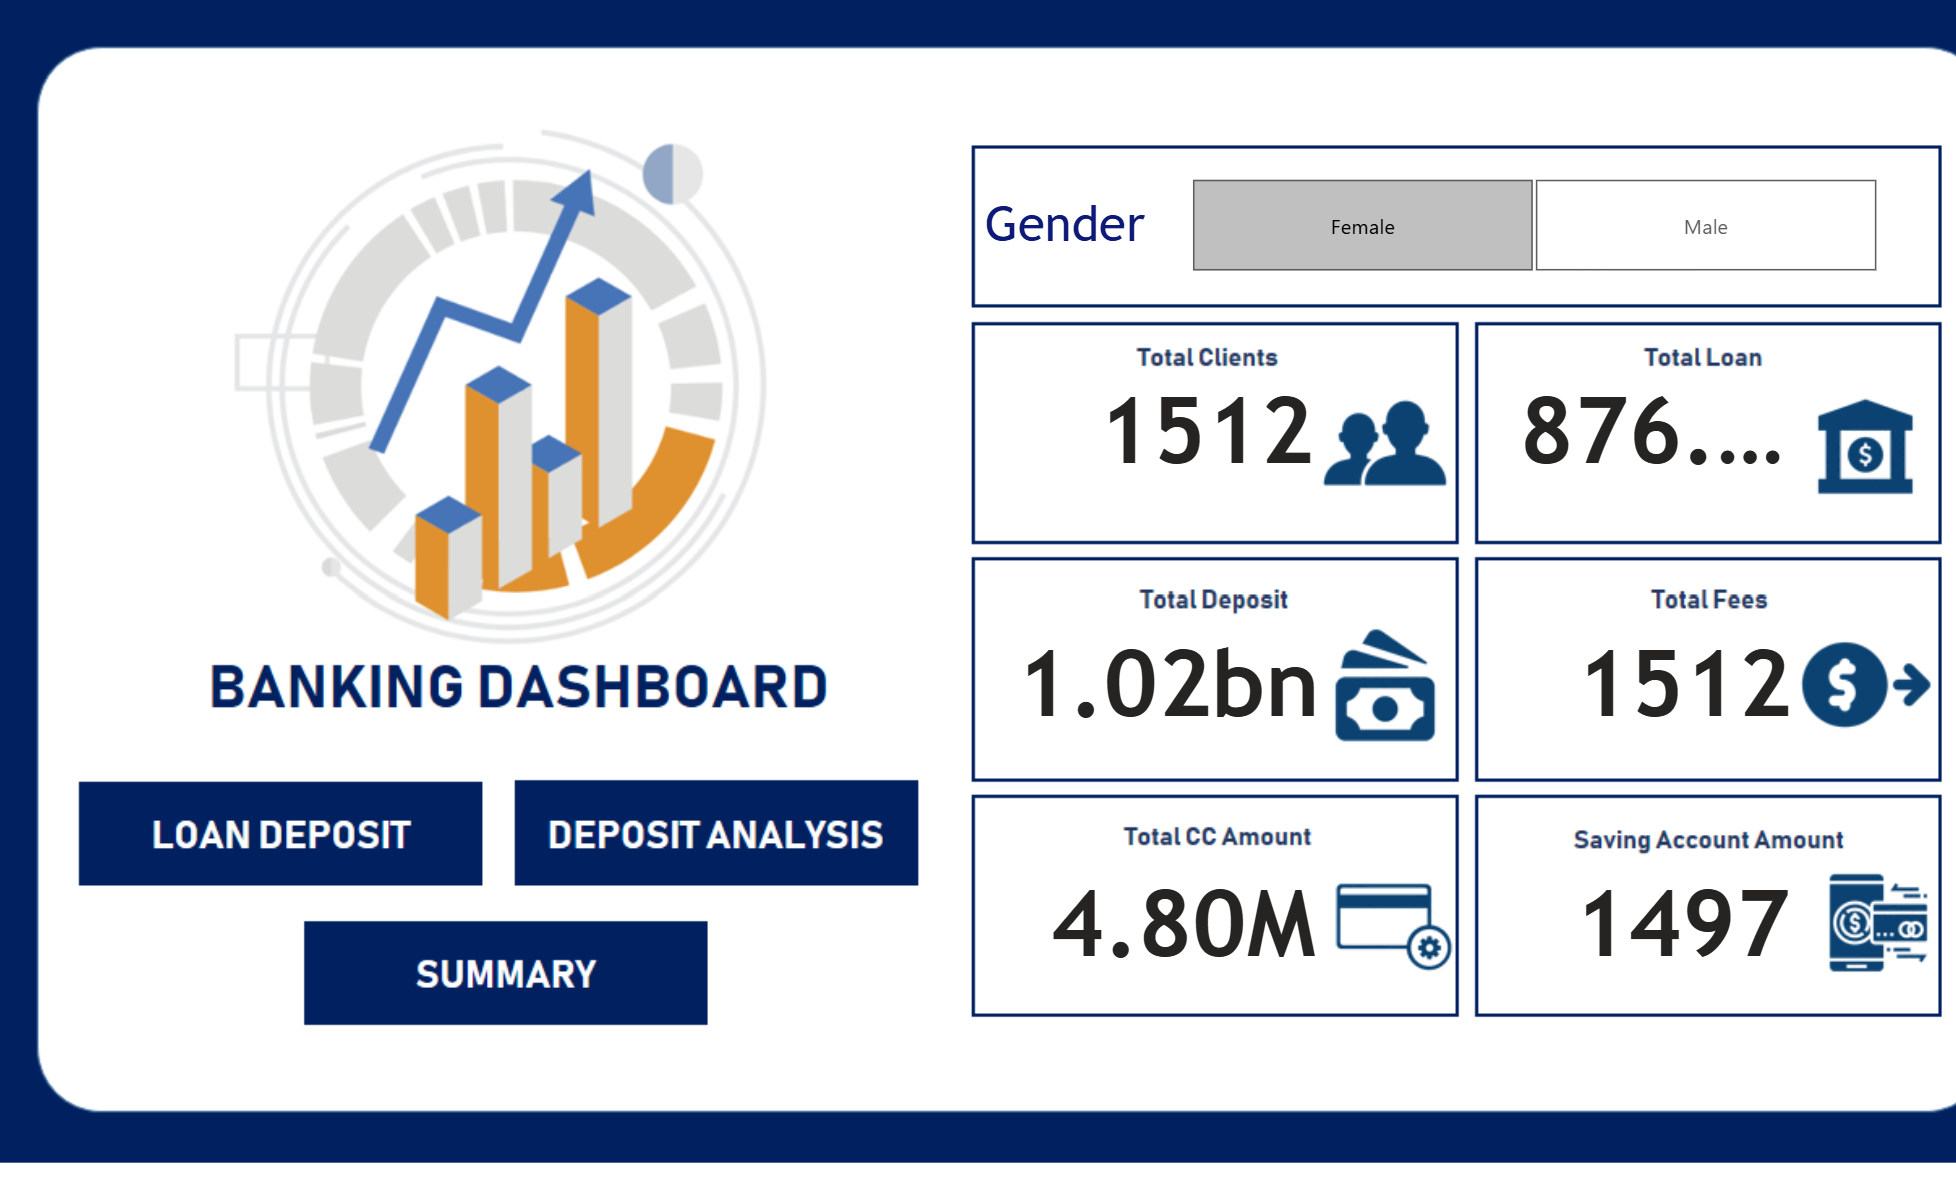

Layout of this report page (visuals, bound fields, positions):
{"tool":"powerbi","page":{"name":"Home","canvas":[1280,800],"ordinal":0},"visuals":[{"type":"actionButton","box":[57.2,533.3,262.8,68.9],"z":0},{"type":"actionButton","box":[200.3,625.7,268,67.6],"z":1000},{"type":"actionButton","box":[346,533.3,256.3,67.6],"z":2000},{"type":"textbox","box":[640,148.3,114.5,49.4],"z":3000},{"type":"slicer","fields":{"Values":["Gender.Gender"]},"box":[754.5,136.6,494.3,72.8],"z":4000},{"type":"card","fields":{"Values":["CountNonNull(Clients - Banking.Name)"]},"box":[681.6,264.1,214.6,75.4],"z":5000},{"type":"card","fields":{"Values":["Sum(Banking_Clients.Bank Loans)"]},"box":[971.7,264.1,214.6,75.4],"z":6000},{"type":"card","fields":{"Values":["Sum(Banking_Clients.Bank Deposits)"]},"box":[656.9,428,214.6,75.4],"z":7000},{"type":"card","fields":{"Values":["CountNonNull(Clients - Banking.Fee Structure)"]},"box":[992.5,428,214.6,75.4],"z":8000},{"type":"card","fields":{"Values":["Sum(Banking_Clients.Credit Card Balance)"]},"box":[640,584.1,268,75.4],"z":9000},{"type":"card","fields":{"Values":["Count(Banking_Clients.Saving Accounts)"]},"box":[971.7,584.1,253.7,75.4],"z":10000}]}

Visuals, with their boxes in screenshot pixels (x1, y1, x2, y2), scaled from the page's 1280x800 canvas onto the 1956x1188 screenshot:
actionButton: crop(87, 792, 489, 894)
actionButton: crop(306, 929, 716, 1030)
actionButton: crop(529, 792, 920, 892)
textbox: crop(978, 220, 1153, 294)
slicer - Gender.Gender: crop(1153, 203, 1908, 311)
card - CountNonNull(Clients - Banking.Name): crop(1042, 392, 1370, 504)
card - Sum(Banking_Clients.Bank Loans): crop(1485, 392, 1813, 504)
card - Sum(Banking_Clients.Bank Deposits): crop(1004, 636, 1332, 748)
card - CountNonNull(Clients - Banking.Fee Structure): crop(1517, 636, 1845, 748)
card - Sum(Banking_Clients.Credit Card Balance): crop(978, 867, 1388, 979)
card - Count(Banking_Clients.Saving Accounts): crop(1485, 867, 1873, 979)
